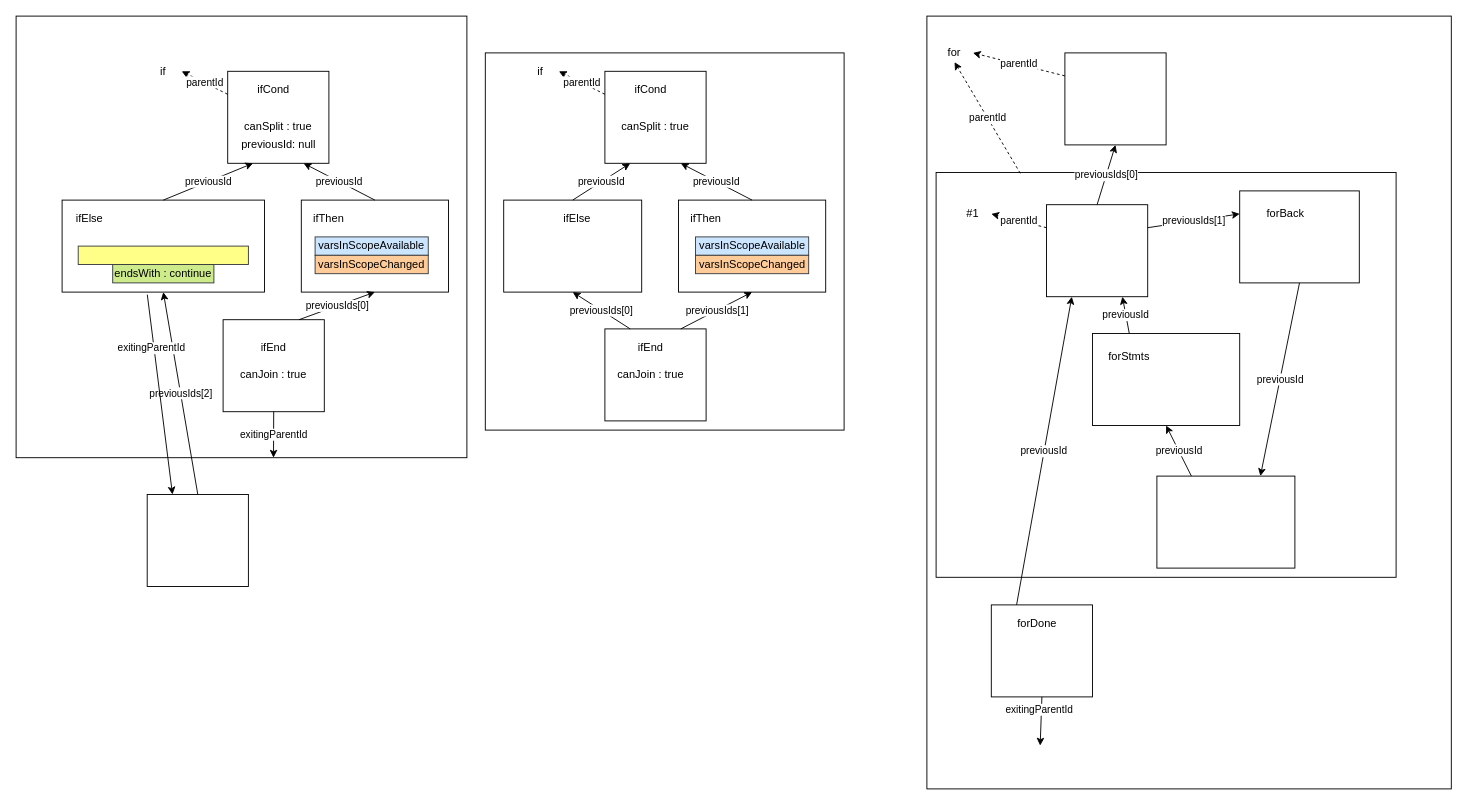
Image size: 1467x805. Some labels were removed from this diagram. Each missing label, with the centre of its shape:
containsSomeOpenEndings: true: (162,254)
forCond: (1097,250)
forInit: (1115,98)
forUpdate: (1225,521)
